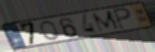4: (81, 13, 99, 35)
6: (59, 17, 79, 38)
7: (18, 21, 37, 46)
M: (91, 9, 122, 34)
O: (40, 20, 61, 41)
P: (111, 7, 134, 31)
